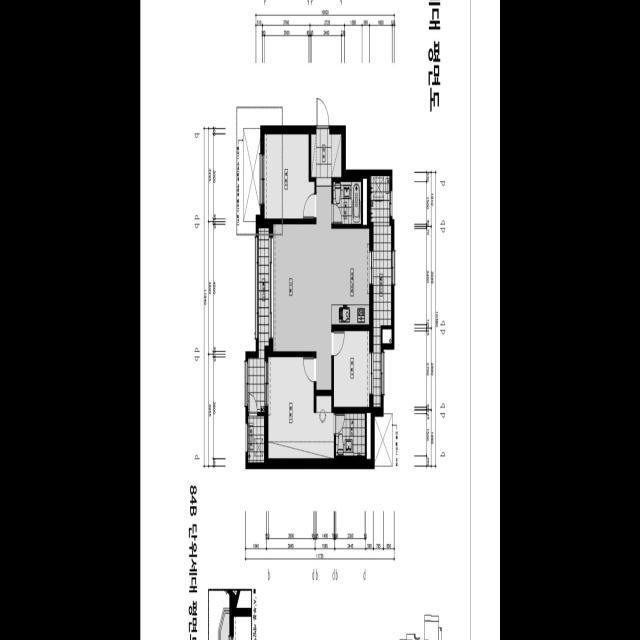background: (140, 0, 500, 640)
space_balconi: (370, 176, 391, 407), (248, 228, 269, 412)
space_bedroom: (268, 357, 334, 459), (264, 134, 314, 219), (333, 331, 369, 407)
space_front: (311, 128, 341, 186)
space_kitchen: (331, 229, 369, 325)
space_living_room: (273, 187, 331, 390)
space_other: (362, 179, 367, 225), (366, 413, 370, 459), (382, 329, 391, 344)
space_outdoor_room: (248, 416, 264, 463)
space_toilet: (336, 413, 365, 456), (333, 182, 361, 224)
